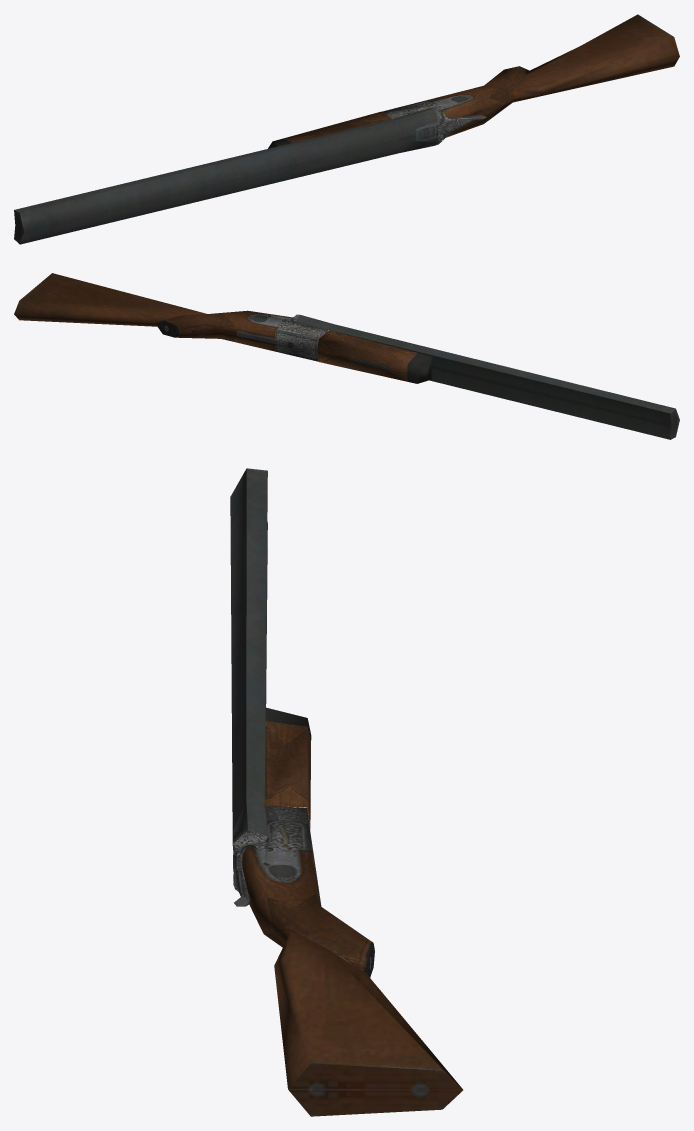
Rendered from Pickup_WeaponSdq04.glb.
3 renders of one model, top to bottom at view 1: azimuth 30°, elevation 25°; view 2: azimuth 150°, elevation 25°; view 3: azimuth 270°, elevation 25°, orthographic. The views are drawn at different scales.
Parts seen in each view (by area): view 1: pk_weapon_sdq04; view 2: pk_weapon_sdq04; view 3: pk_weapon_sdq04.
Boxes of the visible parts, x1,y1,x2,y2 form: pk_weapon_sdq04: [14, 14, 679, 244]; pk_weapon_sdq04: [14, 273, 679, 439]; pk_weapon_sdq04: [230, 468, 463, 1116].
Size of the model in its own units: 0.9248 by 0.049 by 0.1537.
1 material, 1 textured.
